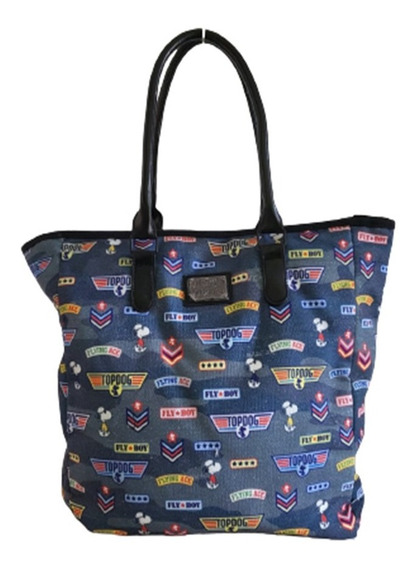cartera: (21, 29, 396, 541)
